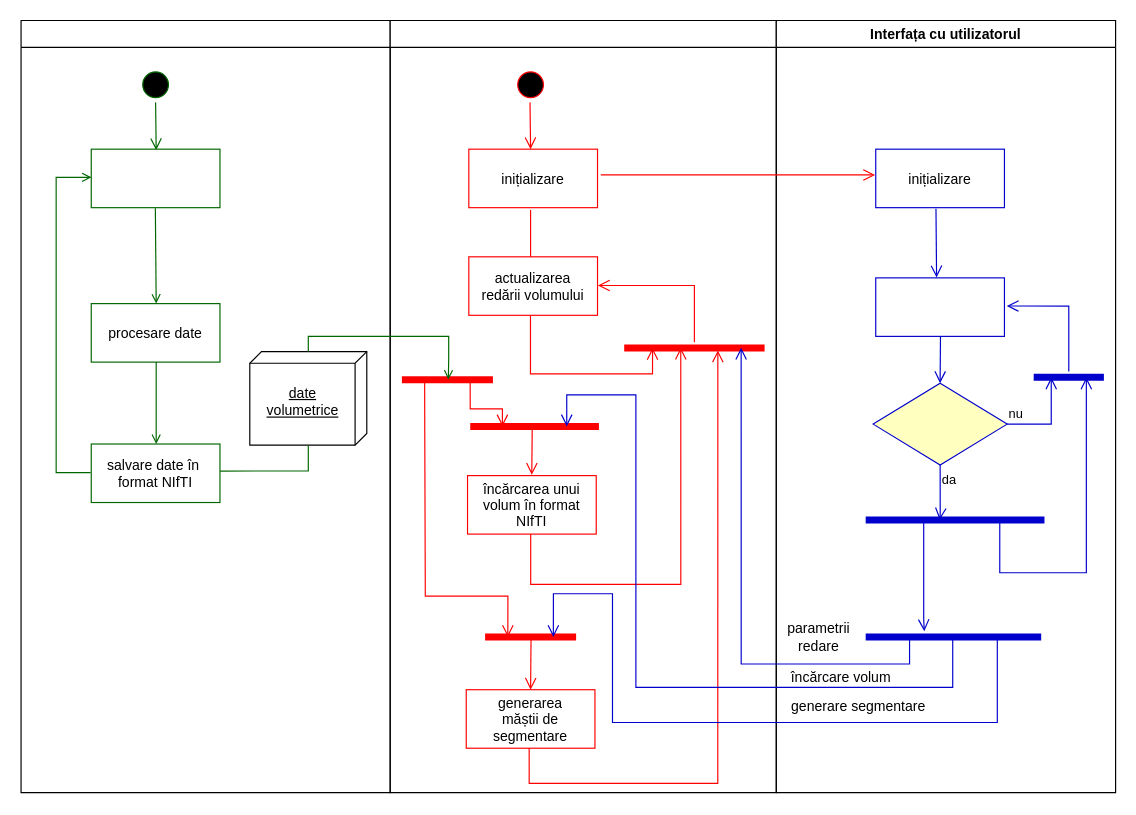
The diagram is 1136 pixels wide and 815 high, and some of its shapes have lost their labels. Each missing label, with the box of its shape:
Aplicația de redare a imaginilor medicale: (389, 19, 776, 793)
modifică starea: (872, 382, 1007, 465)
scanare pacient: (90, 148, 220, 208)
Sursă externă (CT, RMN): (20, 19, 390, 793)
verificare input utilizator: (875, 277, 1004, 336)
